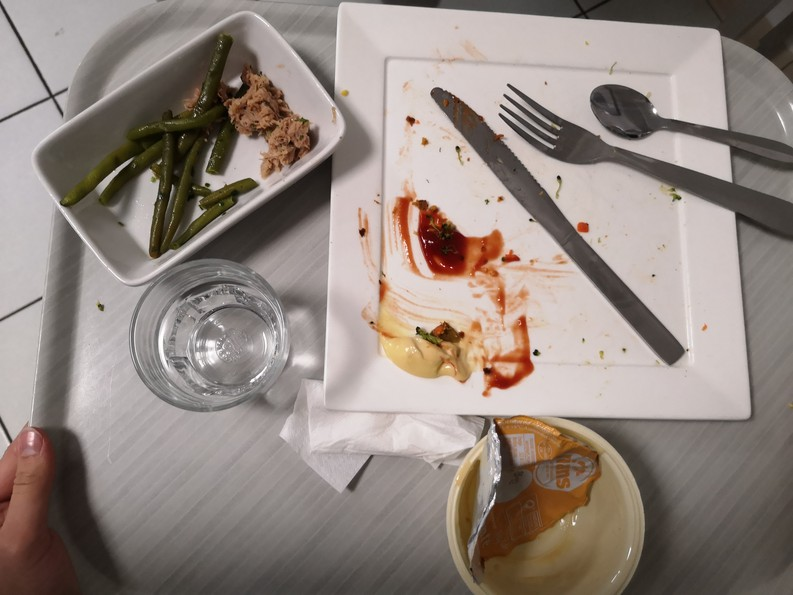cup: (122, 234, 290, 420)
cutlery: (426, 83, 687, 367), (596, 75, 793, 243)
orga: (87, 83, 213, 265), (222, 72, 319, 169), (410, 199, 475, 290)
trash: (450, 416, 653, 595), (283, 365, 486, 493)
